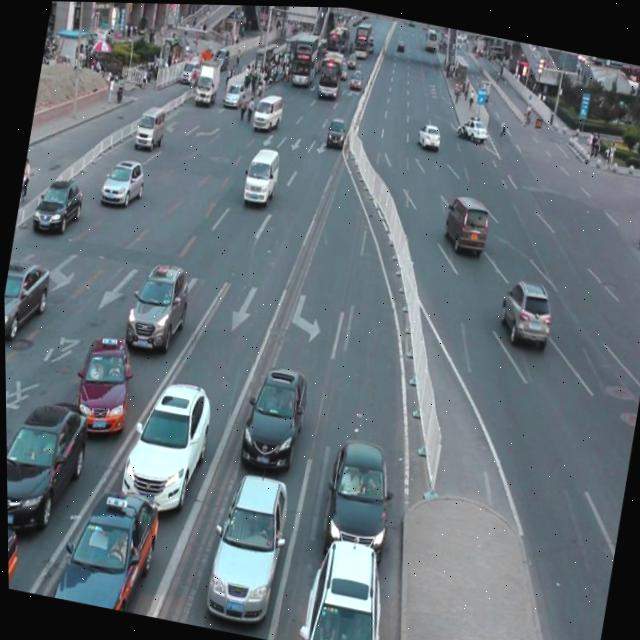car: (46, 471, 164, 615), (197, 460, 294, 627), (114, 368, 216, 518), (4, 385, 92, 543), (295, 526, 397, 640), (315, 427, 399, 557), (234, 355, 311, 473), (68, 327, 139, 440), (119, 252, 195, 357), (3, 254, 53, 346), (495, 272, 554, 348), (28, 172, 85, 239), (439, 189, 491, 258), (98, 154, 147, 209), (6, 515, 21, 589)
truck: (240, 143, 281, 205), (132, 103, 167, 152)
